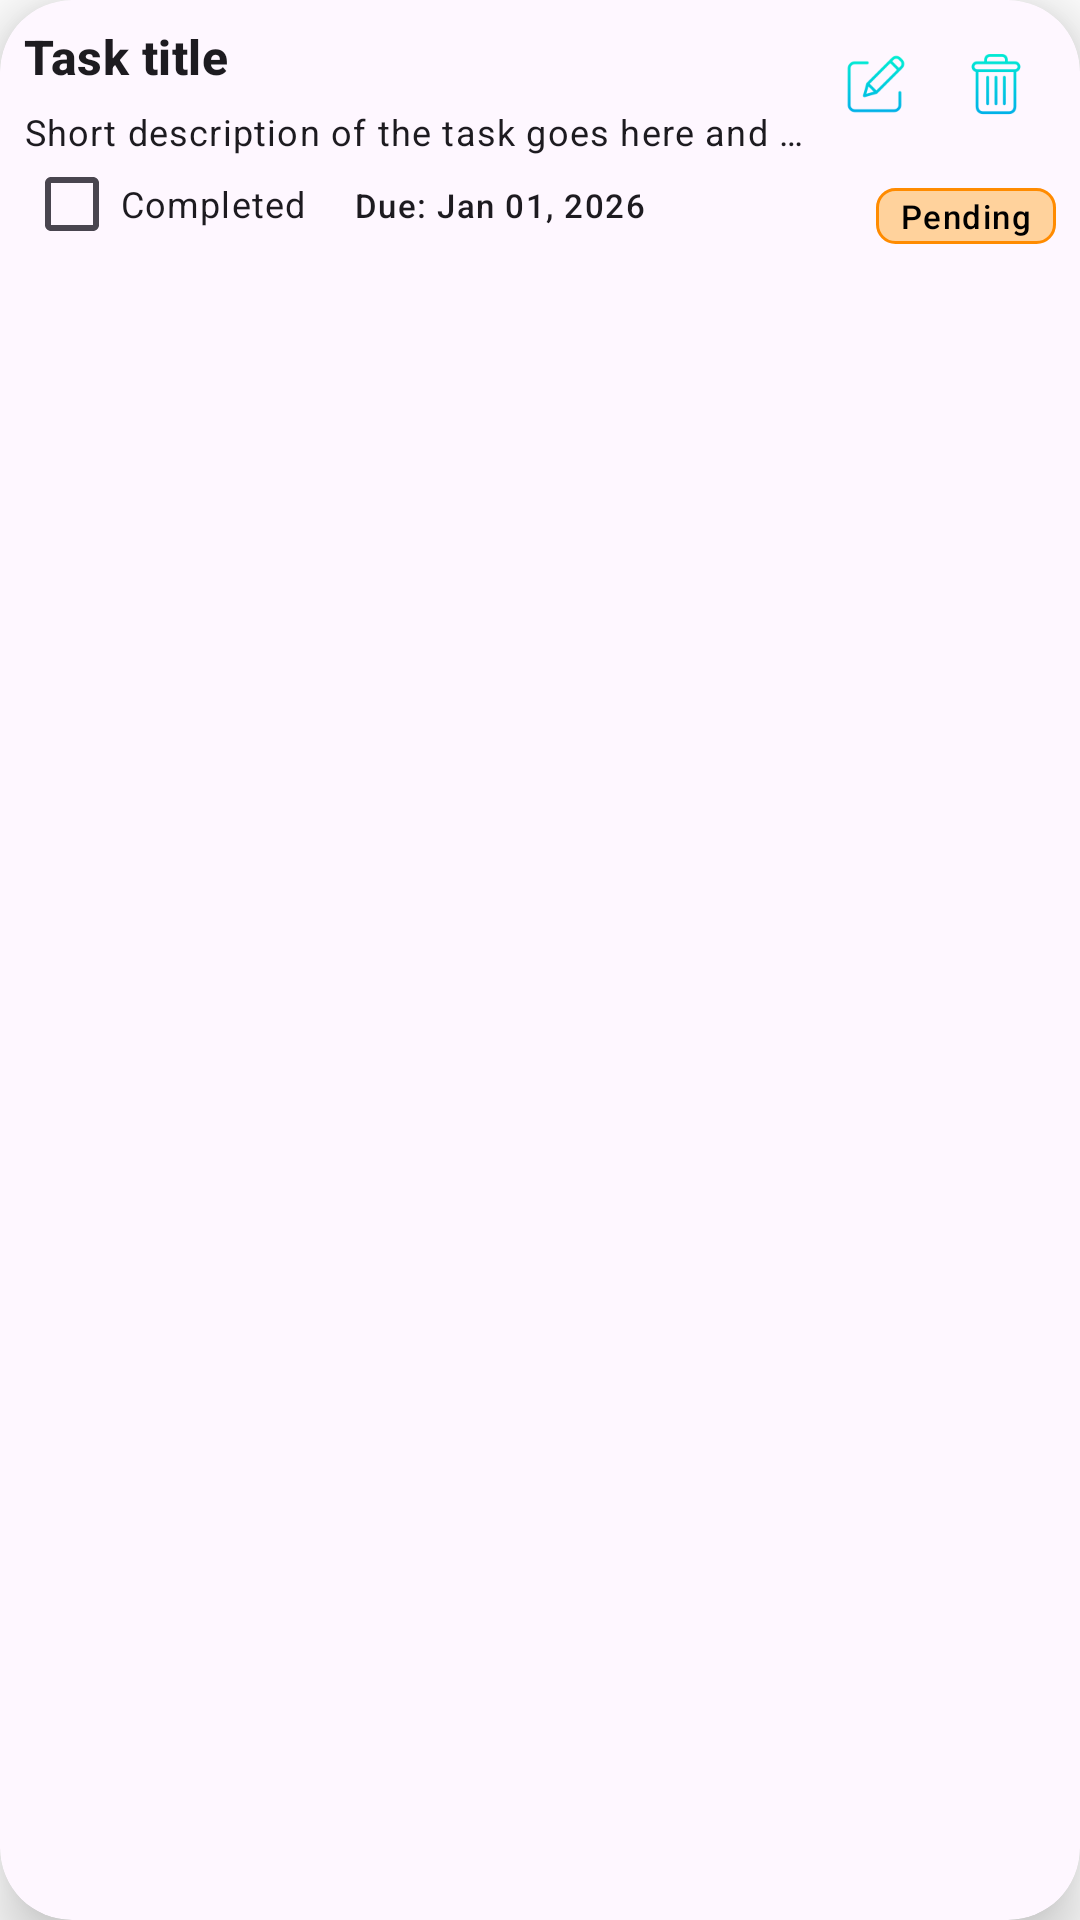

Named icons in this screenshot (1080*1920) and their centers, [x,y]:
Delete Task: [996,84]
Edit Task: [876,84]
